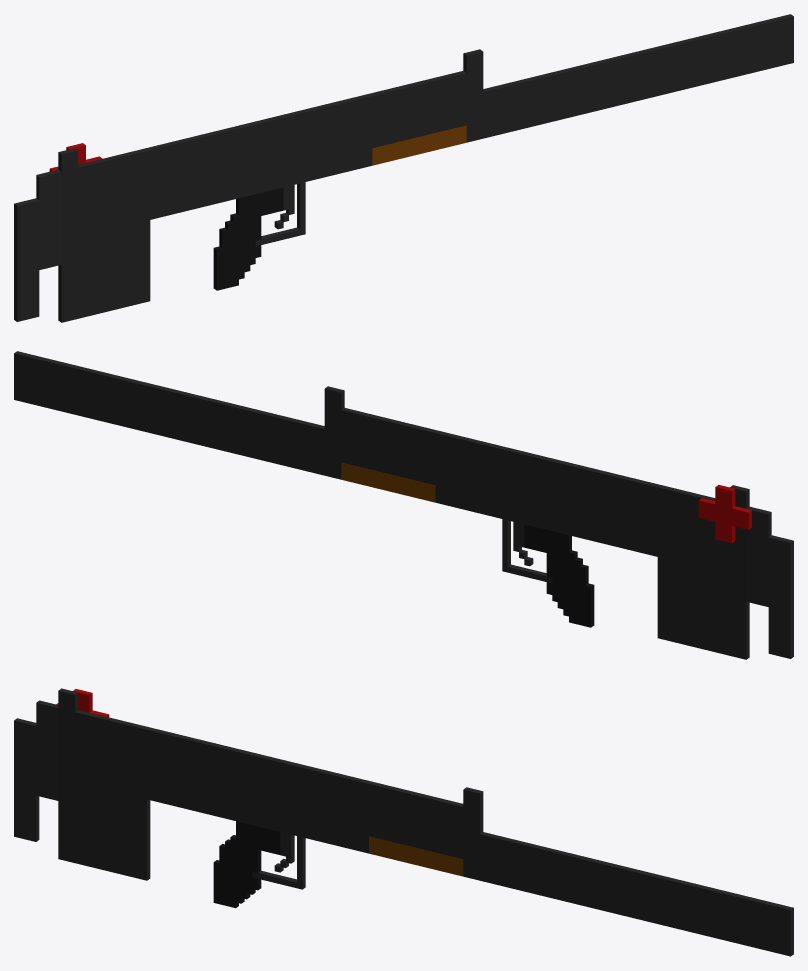
Rendered from PPIconPlus.obj.
3 renders of one model, top to bottom at view 1: azimuth 30°, elevation 25°; view 2: azimuth 150°, elevation 25°; view 3: azimuth 330°, elevation 25°, orthographic.
Size of the model in its own units: 14 by 3 by 0.2.
Materials: 1 (1 with a texture image).
